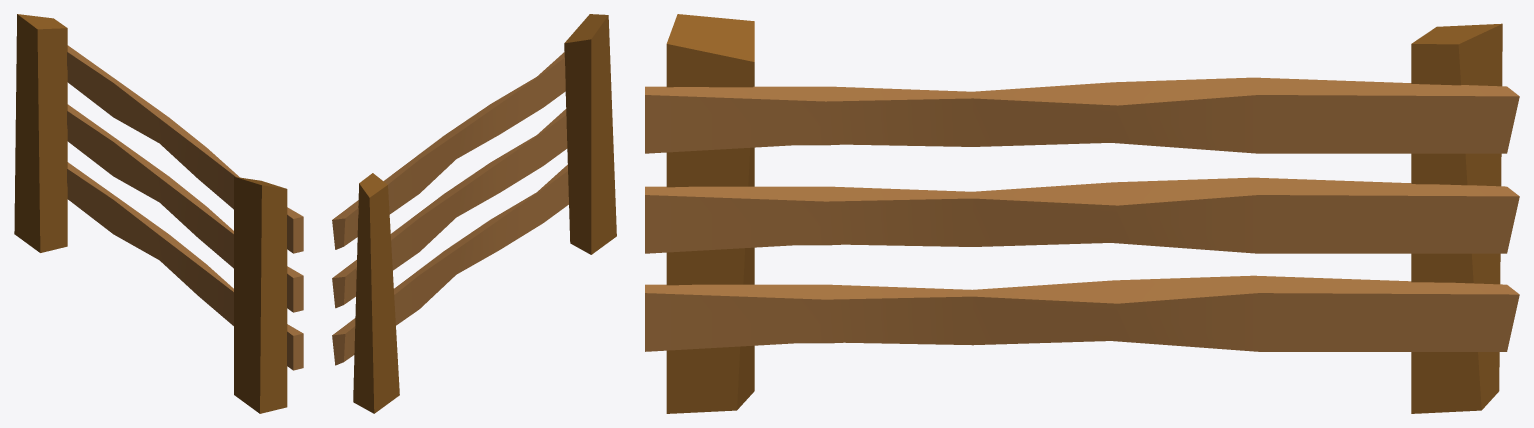
The model's file is WoodenFence.fbx.
3 views of the same model, side by side, from view 1: azimuth 30°, elevation 25°; view 2: azimuth 150°, elevation 25°; view 3: azimuth 270°, elevation 25° (orthographic). The views are drawn at different scales.
Visible parts, largest first — view 1: Post_Right, Post_Left; view 2: Post_Right, Post_Left; view 3: Post_Right, Post_Left.
Boxes of the visible parts, x1,y1,x2,y2 form: Post_Right: (14, 14, 303, 370); Post_Left: (234, 176, 287, 413); Post_Right: (332, 52, 568, 413); Post_Left: (564, 14, 616, 254); Post_Right: (645, 23, 1519, 413); Post_Left: (666, 14, 754, 413).
Bounding box in the file's own units: 0.4526 × 2.32 × 4.82.
